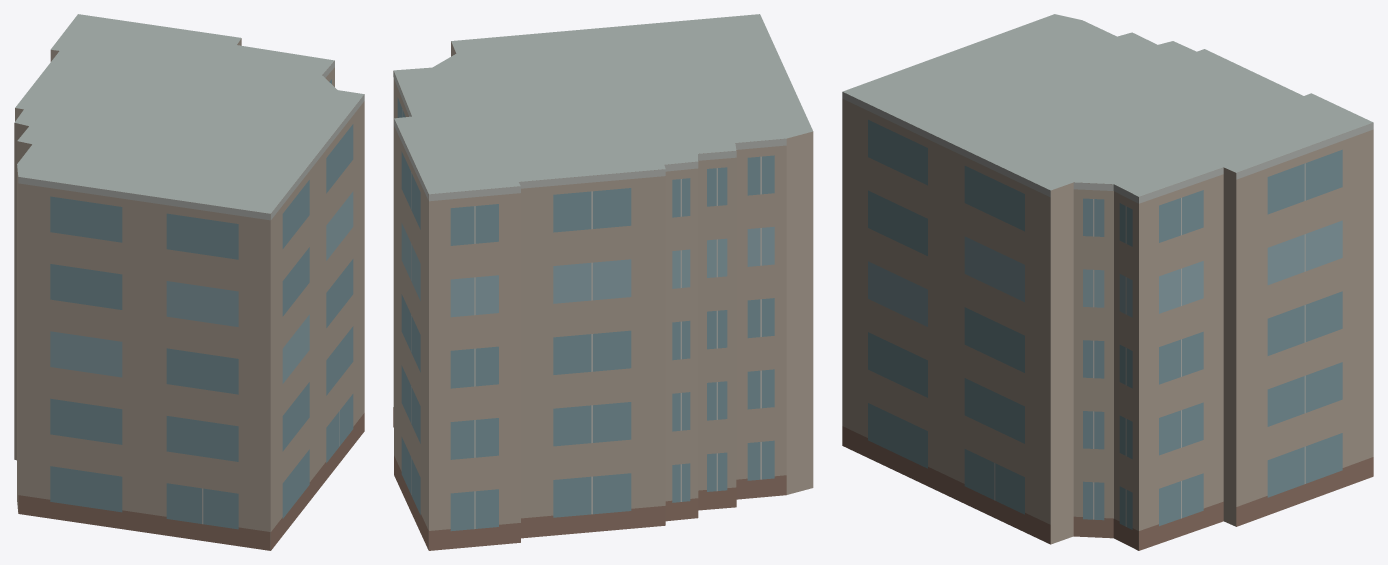
Rendered from survey-upis-32890255.glb.
The picture shows the model from 3 angles, left to right: view 1: azimuth 30°, elevation 25°; view 2: azimuth 150°, elevation 25°; view 3: azimuth 270°, elevation 25°; orthographic projection. The views are drawn at different scales.
Parts seen in each view (by area): view 1: survey-upis-32890255.tmp; view 2: survey-upis-32890255.tmp; view 3: survey-upis-32890255.tmp.
Part boxes in pixels (left/top/right/bottom): survey-upis-32890255.tmp: left=14, top=14, right=364, bottom=550; survey-upis-32890255.tmp: left=393, top=14, right=813, bottom=550; survey-upis-32890255.tmp: left=842, top=14, right=1373, bottom=550.
Size of the model in its own units: 13.85 by 12.5 by 17.01.
